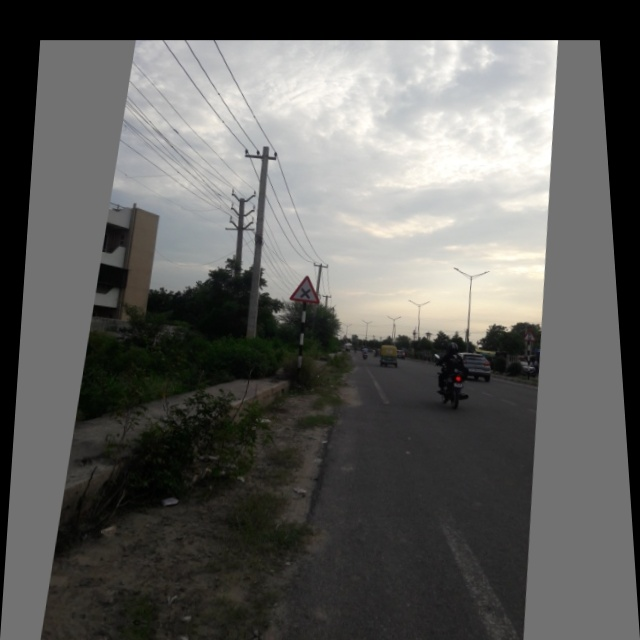Cross_Road: (287, 268, 324, 306)
